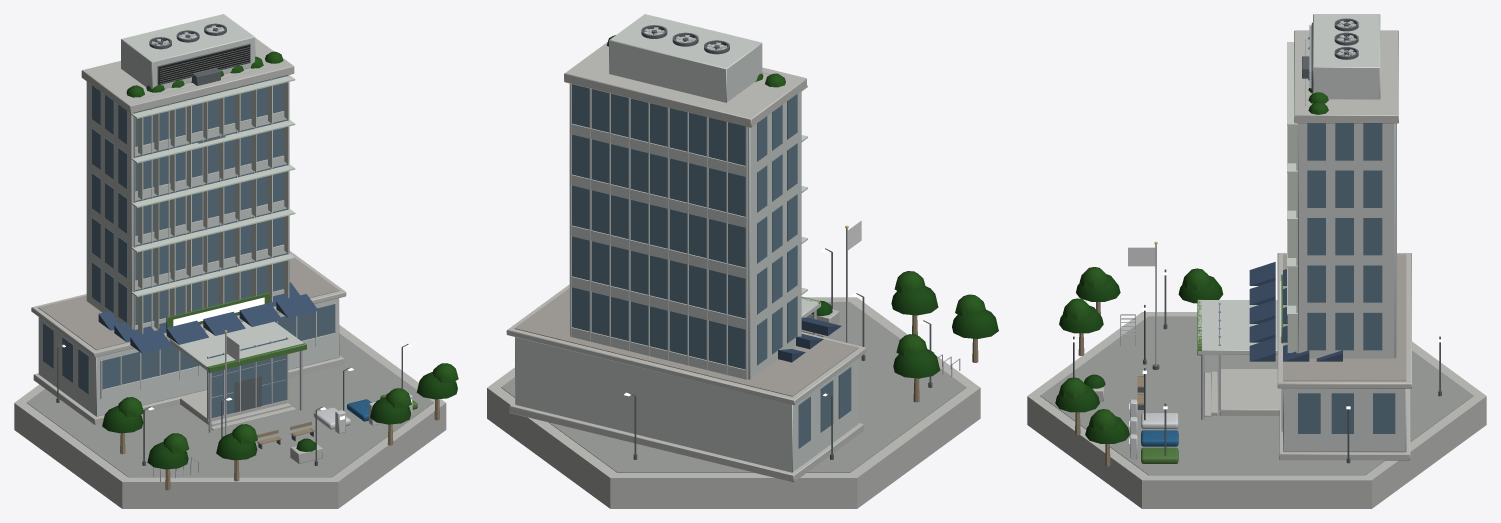
The model's file is techPark.glb.
3 views of the same model, side by side, from view 1: azimuth 30°, elevation 25°; view 2: azimuth 150°, elevation 25°; view 3: azimuth 270°, elevation 25° (orthographic). The views are drawn at different scales.
Visible parts, largest first — view 1: cladding, glass, wall_concrete, pavers, leaf, solar, gravel, steel_dark, paint, metal, dark, wood (+1 smaller); view 2: cladding, glass, wall_concrete, pavers, gravel, leaf, steel_dark, solar, metal; view 3: wall_concrete, cladding, pavers, glass, leaf, gravel, solar, paint, steel_dark, metal, wood, banner.
Boxes of the visible parts, x1,y1,x2,y2 form: cladding: (38, 14, 339, 416); glass: (43, 75, 334, 417); wall_concrete: (14, 38, 446, 508); pavers: (26, 333, 433, 477); leaf: (102, 51, 458, 469); solar: (98, 282, 318, 353); gravel: (38, 258, 339, 350); steel_dark: (56, 23, 408, 465); paint: (166, 292, 417, 433); metal: (143, 25, 302, 481); dark: (154, 34, 249, 84); wood: (120, 399, 439, 490); cladding: (515, 14, 858, 472); glass: (572, 84, 851, 448); wall_concrete: (487, 42, 980, 508); pavers: (501, 302, 966, 472); gravel: (514, 288, 858, 396); leaf: (606, 35, 998, 378); steel_dark: (628, 25, 932, 459); solar: (778, 317, 841, 362); metal: (644, 27, 960, 376); wall_concrete: (1027, 30, 1486, 508); cladding: (1198, 14, 1406, 452); pavers: (1040, 316, 1473, 475); glass: (1219, 123, 1395, 433); leaf: (1055, 37, 1328, 443); gravel: (1283, 254, 1406, 381); solar: (1249, 262, 1342, 361); paint: (1130, 274, 1282, 463); steel_dark: (1073, 18, 1441, 463); metal: (1120, 20, 1355, 419); wood: (1075, 302, 1143, 466); banner: (1128, 247, 1155, 266).
Bounding box in the file's own units: 21.3 × 22.86 × 24.6.
